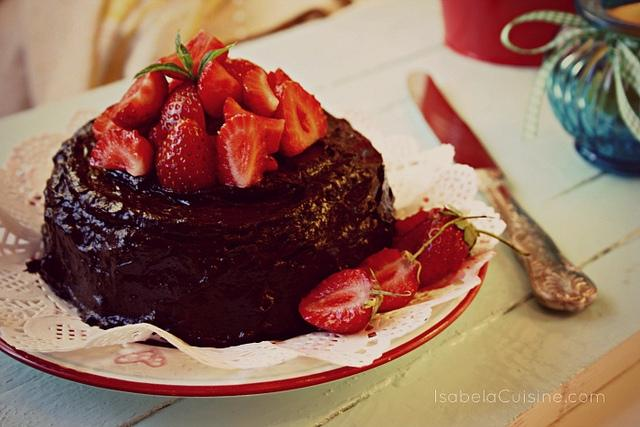strawberry: (356, 216, 493, 314), (414, 204, 532, 288), (298, 268, 412, 334), (156, 119, 219, 192), (270, 81, 328, 157), (148, 81, 205, 152), (102, 71, 170, 130), (216, 114, 268, 188), (156, 29, 228, 81), (223, 96, 286, 154), (90, 128, 155, 176), (197, 60, 241, 119), (242, 67, 280, 118), (396, 207, 440, 238), (222, 59, 262, 86)
